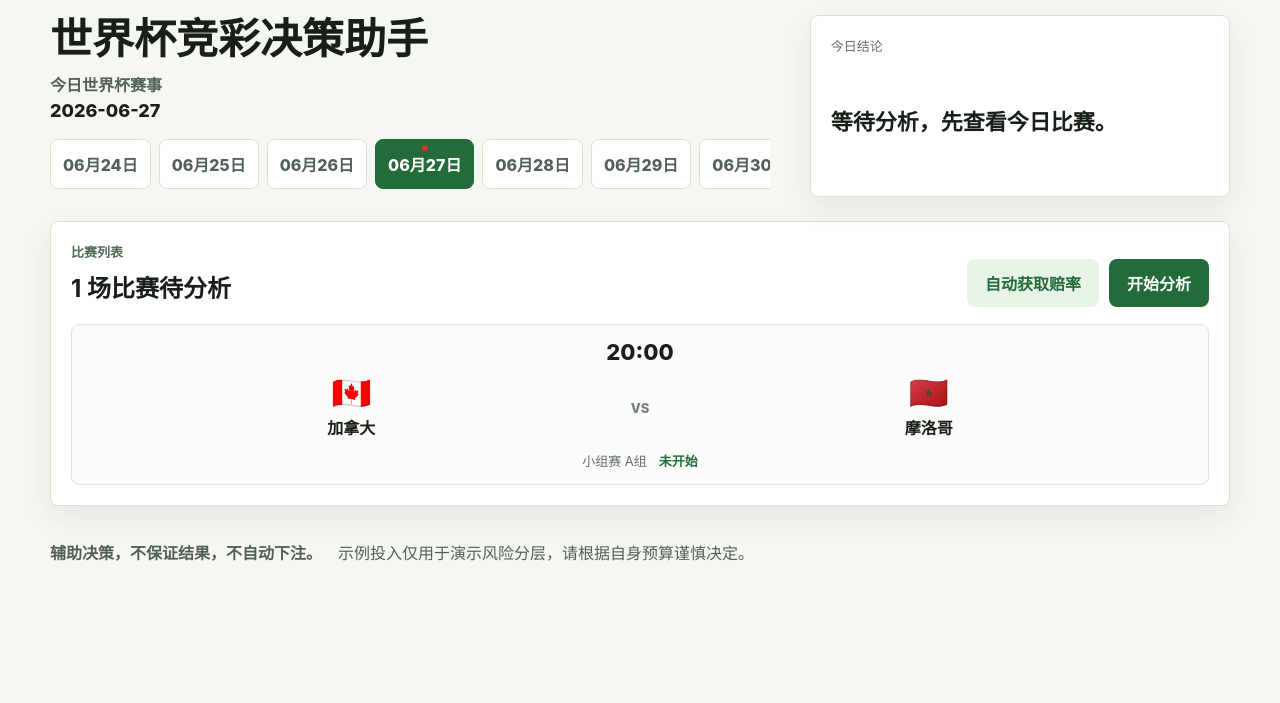
App › fetches odds automatically and fills matches without user input
The width and height of the screenshot is (1280, 703).
Click the button "自动获取赔率". click: [1033, 283]
box: [967,259,1099,307]
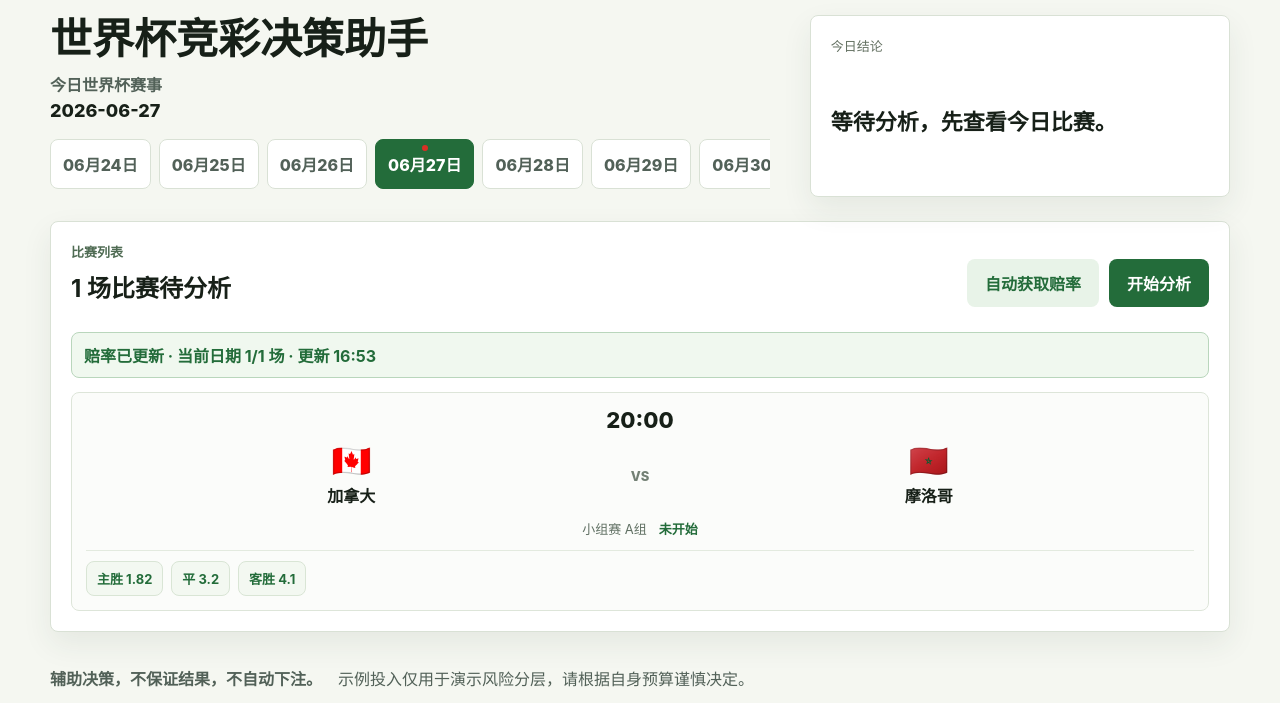
Expected: the text "赔率已更新 · 当前日期 1/1 场 · 更新 16:53" is shown, [71,332,1209,378]
Expected: the text "主胜 1.82" is shown, [86,561,163,596]
Expected: the text "平 3.2" is shown, [171,561,230,596]
Click the button "开始分析". click: [1159, 283]
box: [1109,259,1209,307]
(page scrolled)
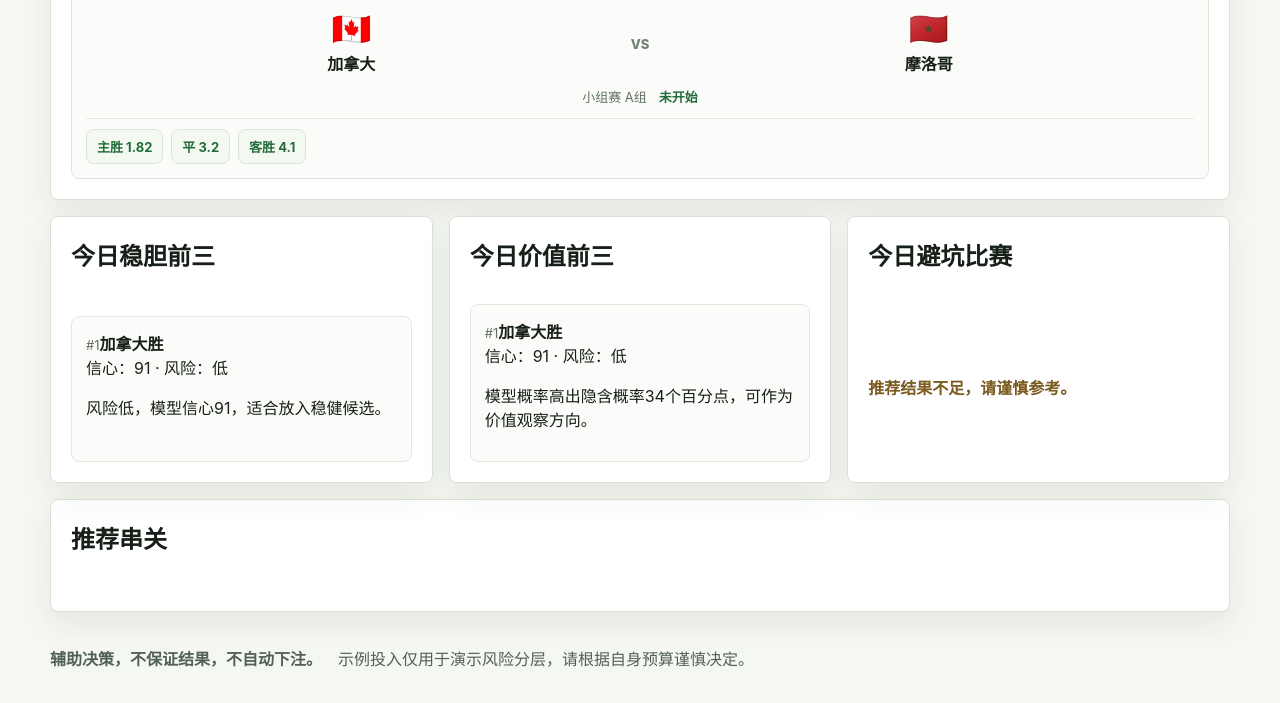
Expected: the text "加拿大胜" below "今日稳胆前三" is shown, [100,334,164,354]
